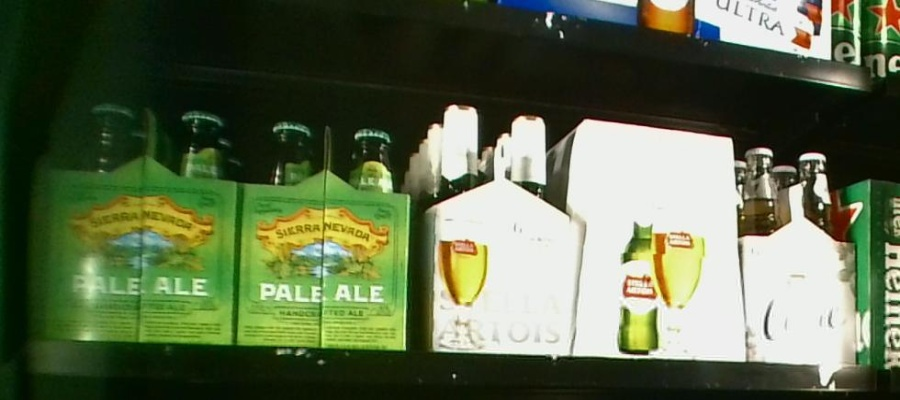bottle: (39, 102, 239, 347), (569, 115, 748, 362), (239, 120, 414, 351), (420, 101, 567, 351), (740, 145, 859, 364)
